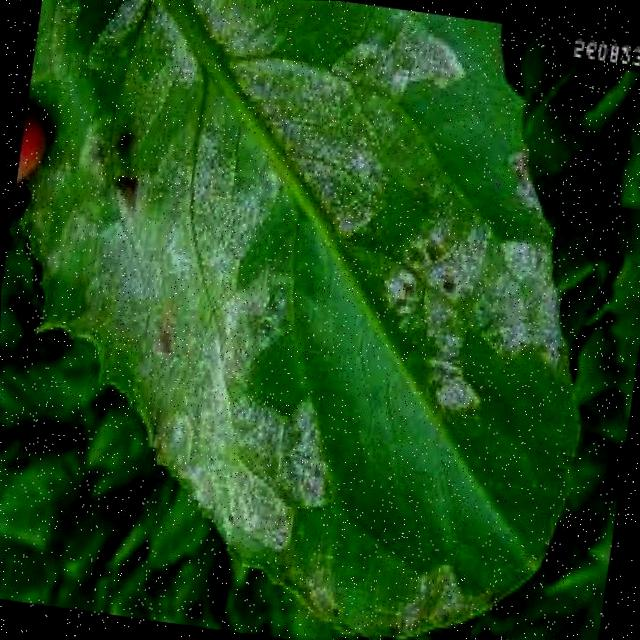Downy_mildew: (28, 0, 561, 599)
